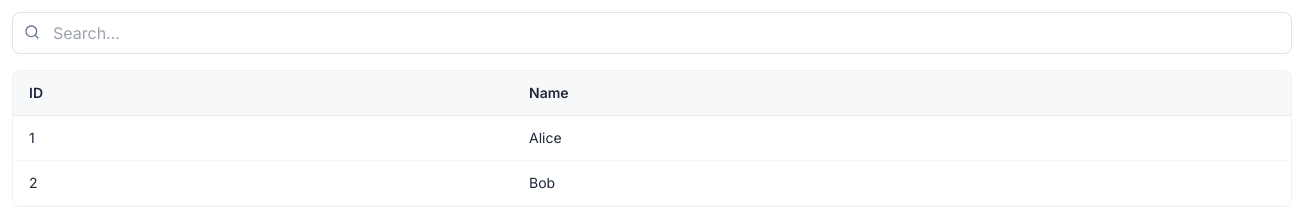
Test: DataTable basic functionality › should filter data based on search term
Type search term
Type "Alice" into the field with placeholder "Search..." at (652, 33), box [12,12,1292,54]
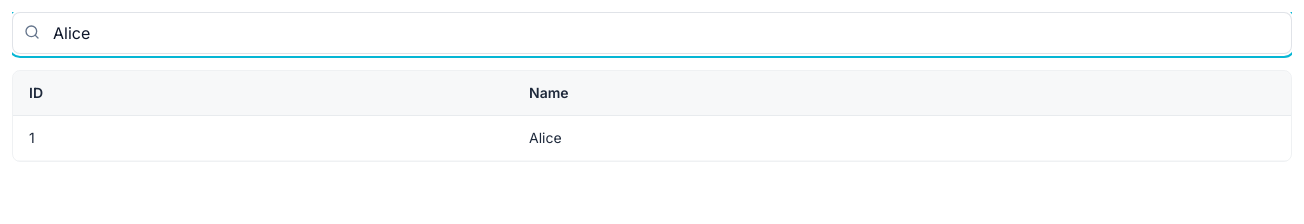
Expected: the text "Alice" is shown, [513,116,1291,160]
Result: the text "Bob" is gone
